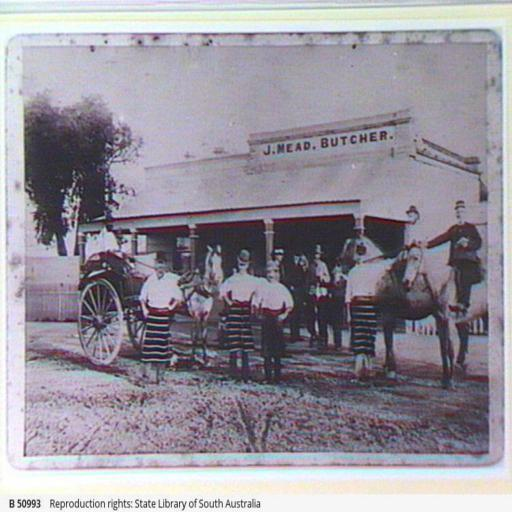horse: (336, 234, 470, 383), (404, 238, 490, 390), (176, 244, 226, 372)
